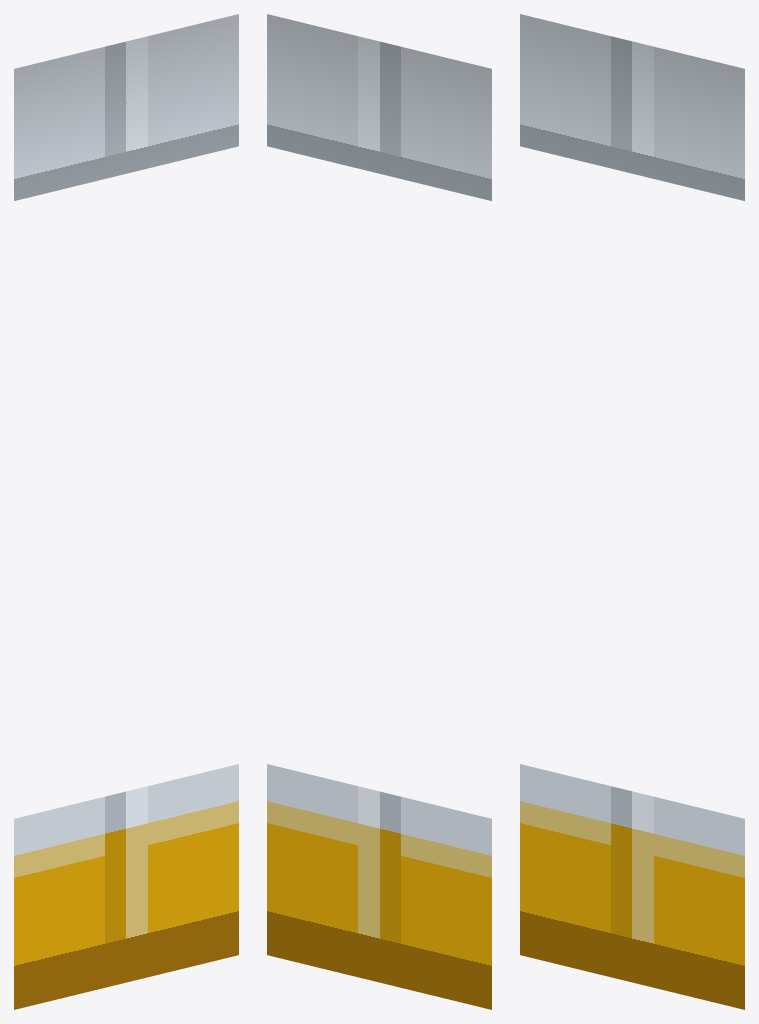
3 views of the same model, side by side, from view 1: azimuth 30°, elevation 25°; view 2: azimuth 150°, elevation 25°; view 3: azimuth 330°, elevation 25° (orthographic).
Size of the model in its own units: 1 by 4 by 0.
Materials: 1 (1 with a texture image).
